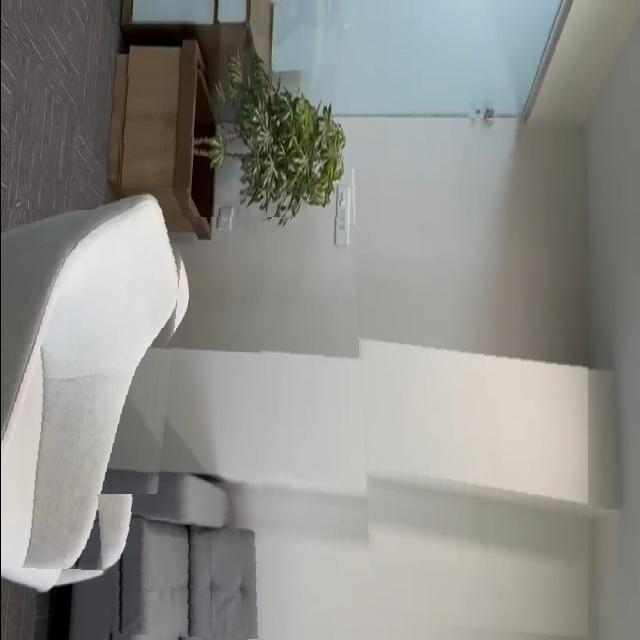floor: (0, 12, 119, 210)
furniture: (0, 188, 188, 571), (118, 56, 340, 217), (96, 494, 262, 640)
wall: (345, 118, 587, 640), (257, 219, 338, 640)
